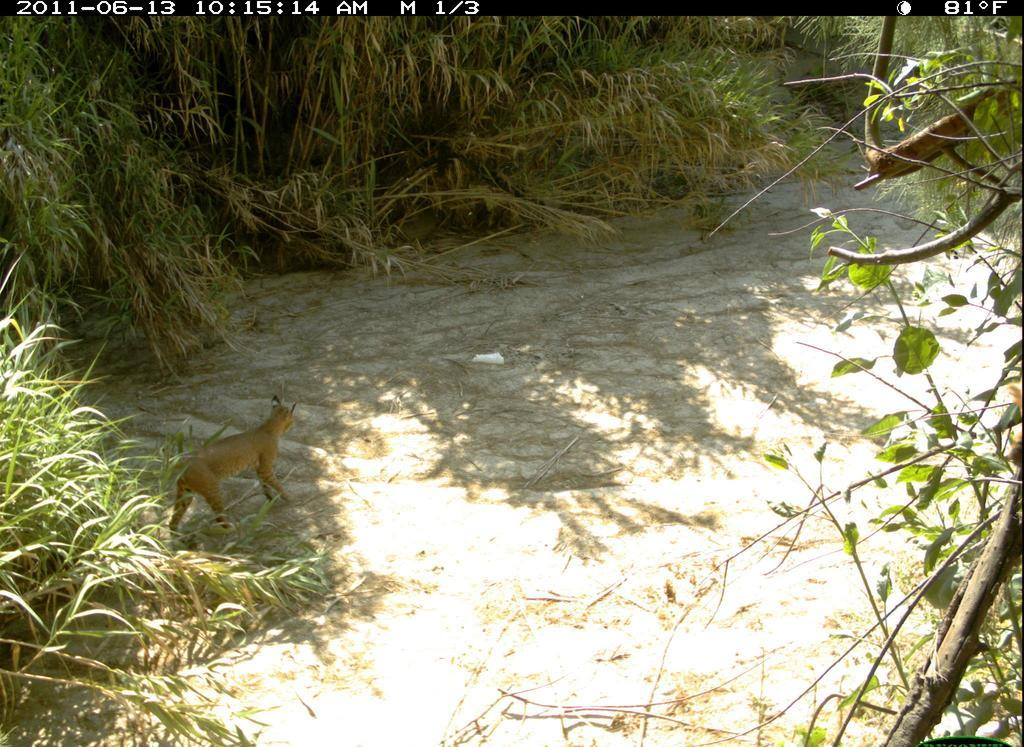bobcat: (131, 383, 323, 562)
